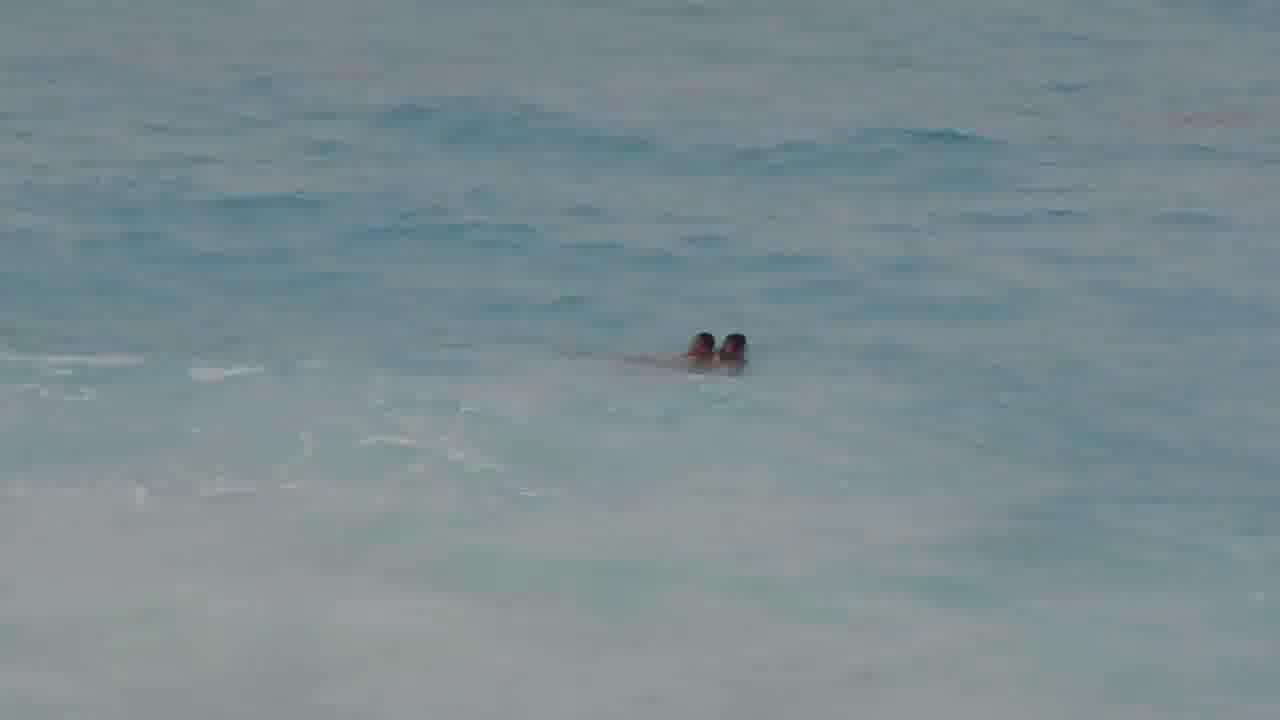swimmer: (711, 325, 744, 370), (683, 328, 700, 361)
